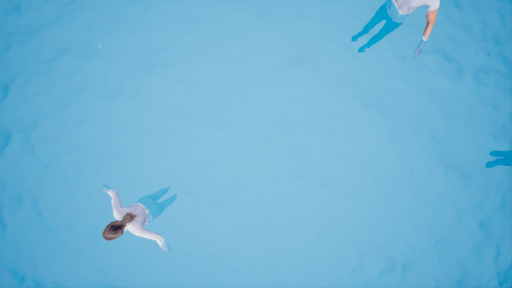person: (92, 180, 181, 268)
